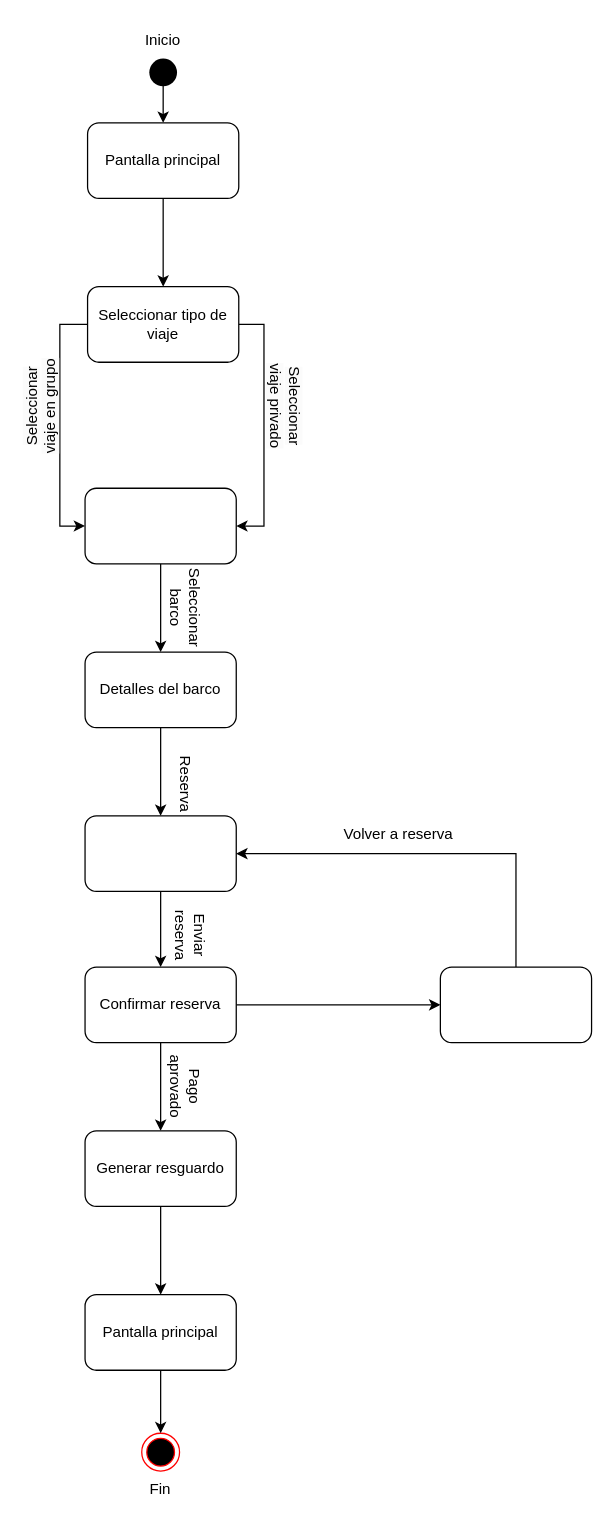
The diagram is 614 pixels wide and 1530 high, and some of its shapes have lost their labels. The box of each missing label's shape, as (x1, y1, x2, y2) in pixels:
Buscar Barcos: (84, 487, 236, 564)
Cancelar reserva: (439, 966, 592, 1043)
Formulario de reserva: (84, 815, 236, 891)
